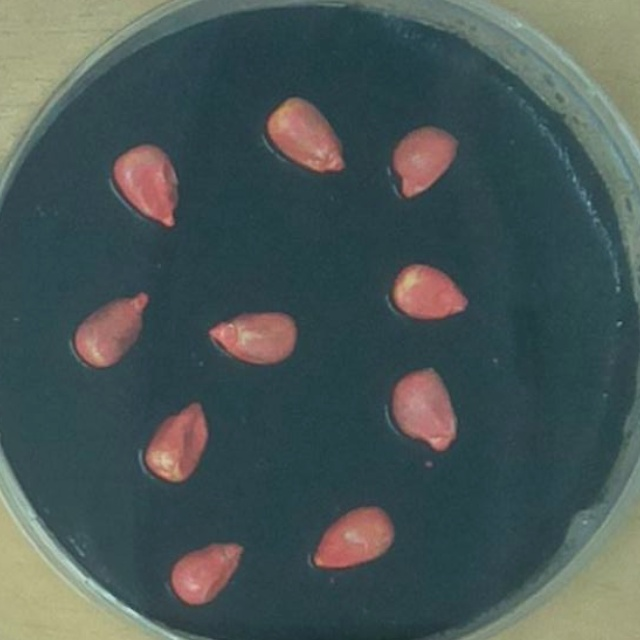Zea mays: (255, 86, 352, 181), (66, 280, 158, 374), (383, 357, 466, 460), (103, 131, 187, 232), (304, 495, 405, 574), (136, 392, 218, 489), (381, 116, 468, 206), (199, 300, 305, 371), (162, 529, 250, 613), (383, 253, 476, 327)
